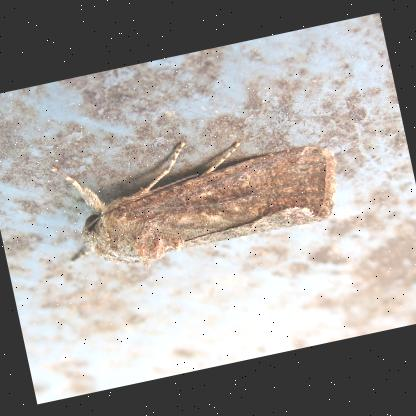Fall Armyworm Moth: (46, 105, 352, 286)
